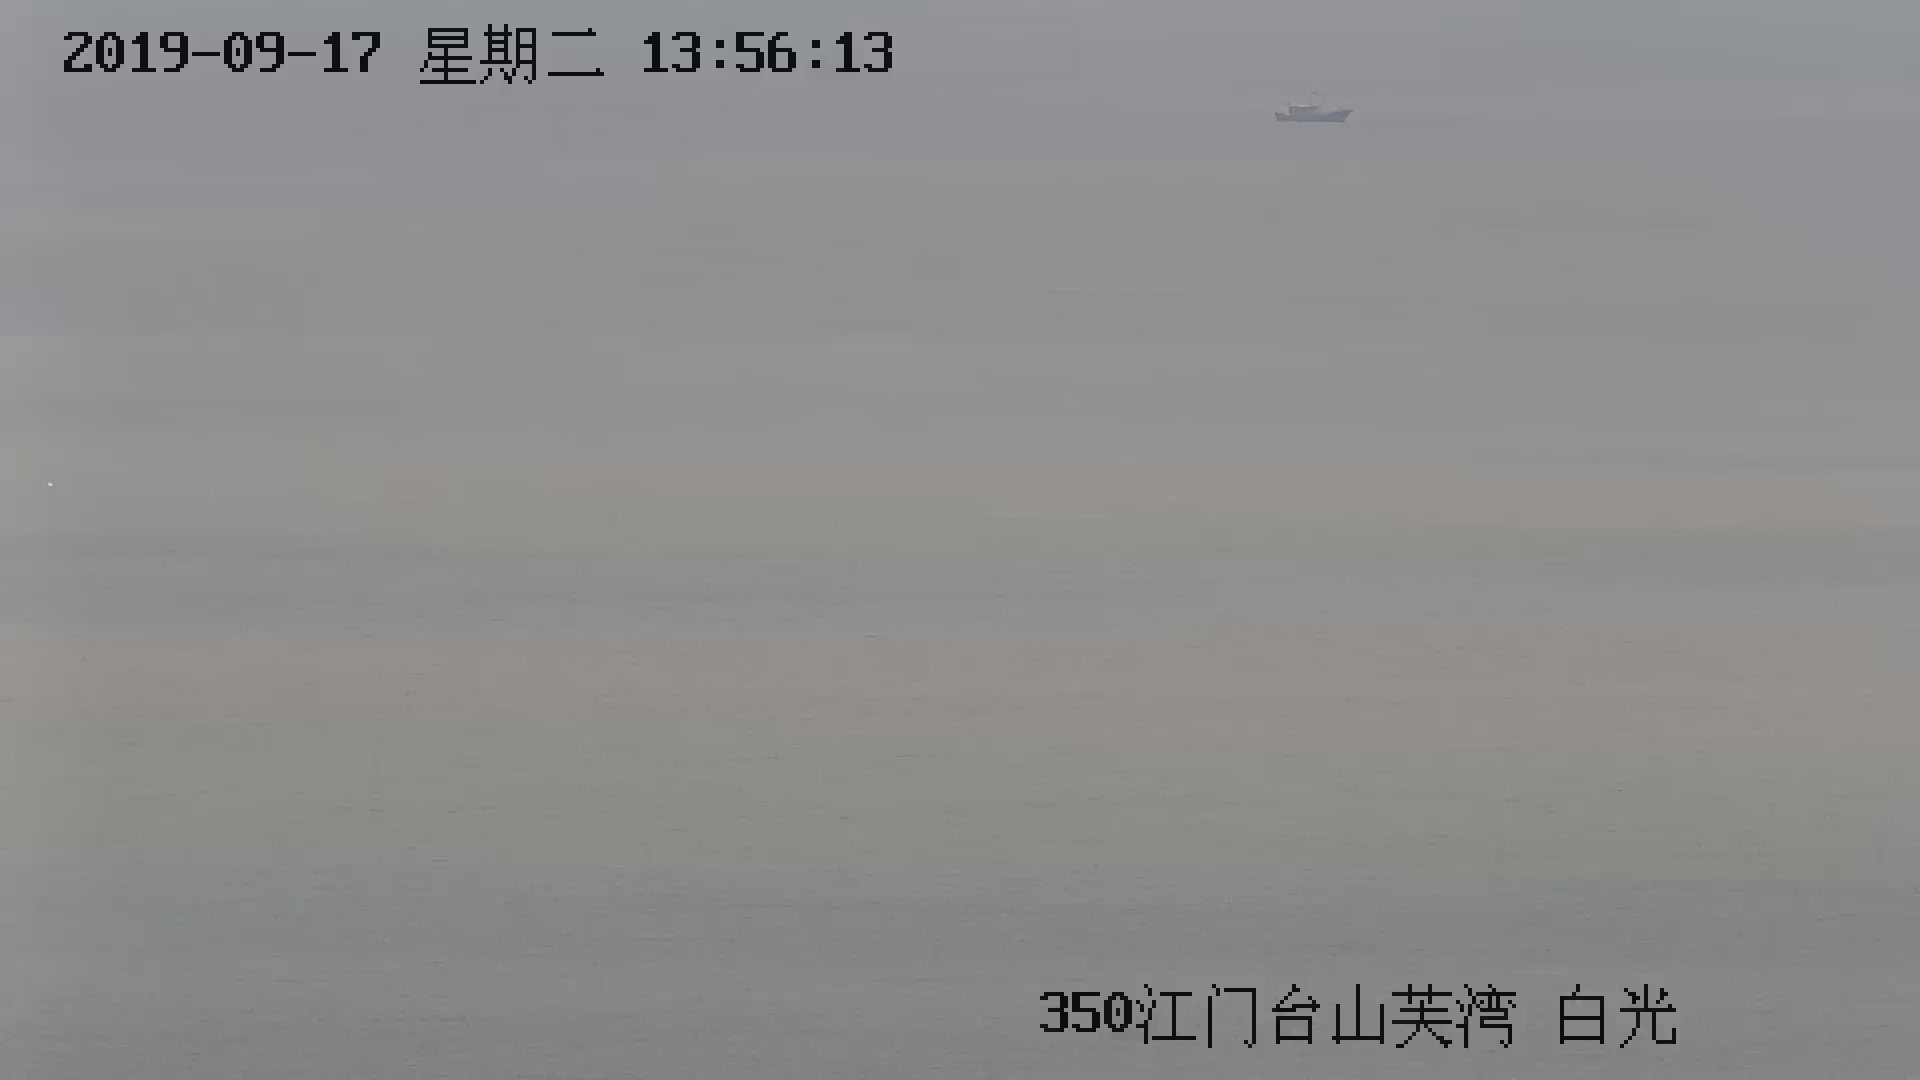ship: (1275, 102, 1354, 125)
